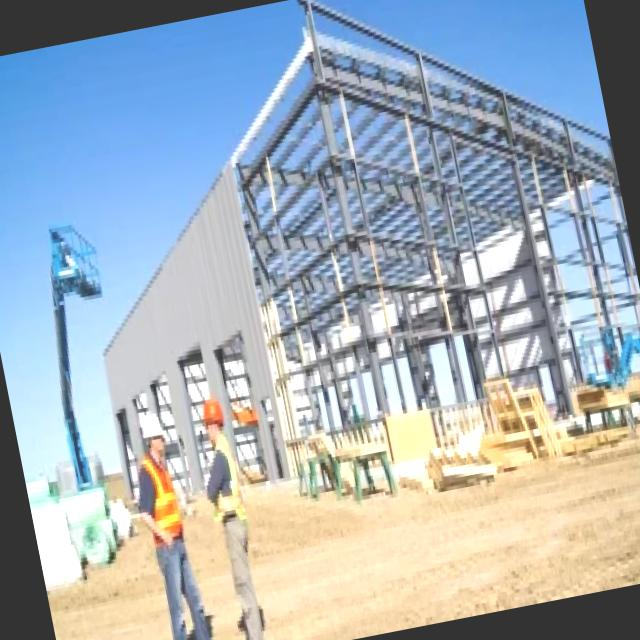helmet: (194, 386, 228, 432), (138, 406, 166, 448)
vest: (140, 452, 187, 552), (204, 434, 252, 529)
